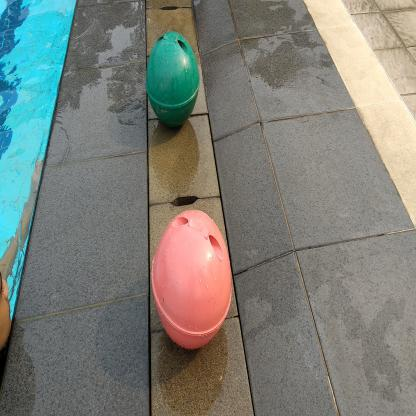green_buoy: (143, 28, 202, 135)
red_buoy: (146, 202, 235, 358)
